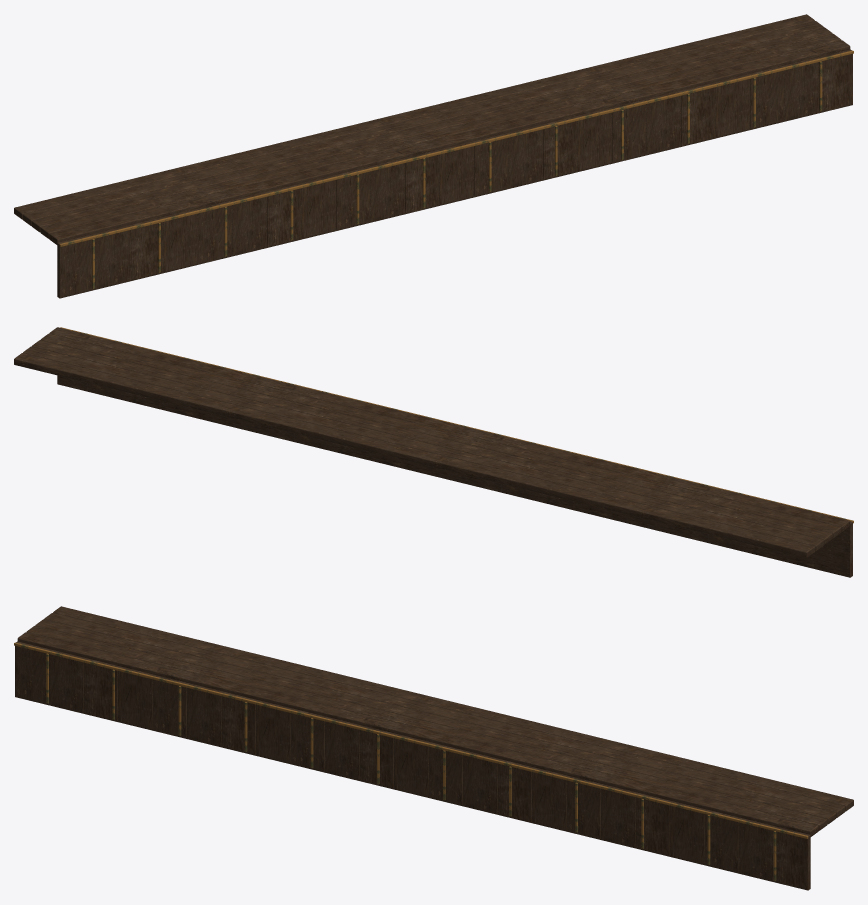
Rendered from PROP_NightBlue_Counter_Brass.glb.
3 renders of one model, top to bottom at view 1: azimuth 30°, elevation 25°; view 2: azimuth 150°, elevation 25°; view 3: azimuth 330°, elevation 25°, orthographic.
Visible parts, largest first — view 1: PROP_NightBlue_Counter_Brass; view 2: PROP_NightBlue_Counter_Brass; view 3: PROP_NightBlue_Counter_Brass.
Part boxes in pixels (bbox=[...]): PROP_NightBlue_Counter_Brass: bbox=[14, 14, 853, 298]; PROP_NightBlue_Counter_Brass: bbox=[14, 327, 853, 577]; PROP_NightBlue_Counter_Brass: bbox=[14, 606, 853, 890].
Bounding box in the file's own units: 6.9 × 0.479 × 0.709.
Materials: 2 (2 with a texture image).
